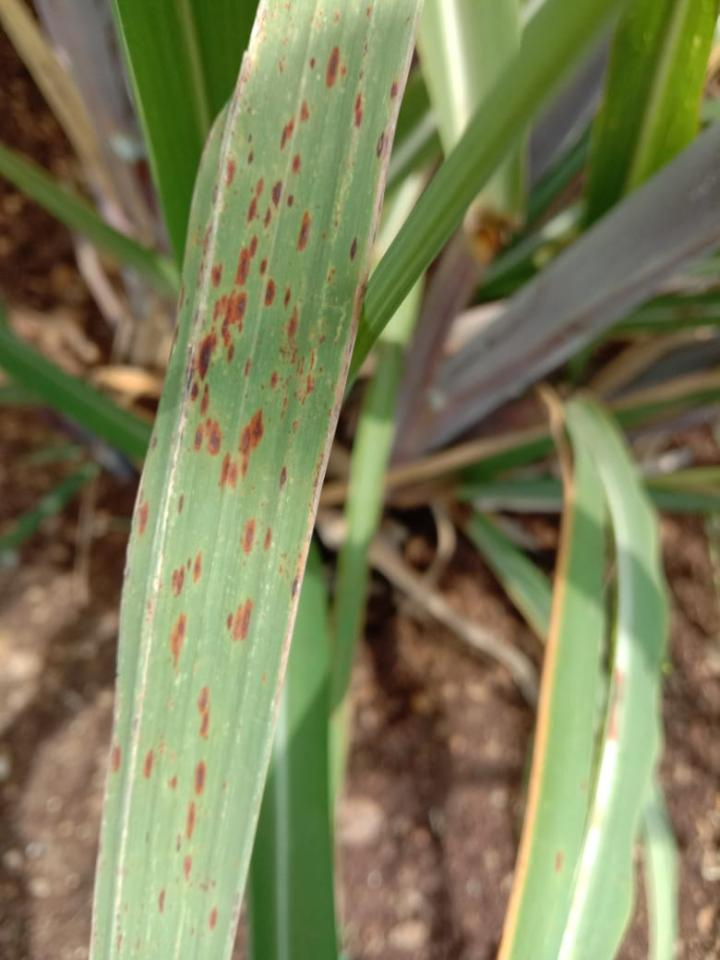RedRot: (608, 669, 625, 740), (186, 346, 194, 392), (377, 131, 385, 159), (213, 185, 218, 204)
Rust: (333, 272, 369, 405), (213, 288, 247, 362), (238, 408, 264, 480), (231, 56, 258, 115), (233, 236, 258, 286), (278, 306, 299, 364), (226, 597, 253, 642), (170, 613, 187, 678), (197, 325, 217, 380), (194, 417, 222, 456), (247, 177, 263, 222), (293, 374, 315, 405), (218, 451, 236, 488), (197, 687, 209, 739), (326, 46, 340, 89), (312, 453, 324, 502), (298, 210, 311, 252), (194, 760, 207, 798), (230, 892, 240, 941), (243, 518, 256, 555), (280, 117, 295, 149), (137, 502, 148, 542), (172, 563, 184, 597), (271, 180, 283, 210), (185, 801, 194, 840), (169, 325, 179, 360), (353, 92, 362, 128), (275, 375, 292, 394), (199, 384, 209, 416), (144, 749, 154, 779), (193, 551, 202, 584), (204, 223, 213, 255), (265, 279, 275, 307), (210, 264, 222, 287), (111, 745, 121, 772), (227, 160, 236, 189), (197, 879, 217, 892), (262, 206, 272, 229), (164, 774, 177, 791), (184, 856, 192, 881), (350, 235, 357, 263), (263, 527, 271, 551), (283, 286, 291, 310), (190, 382, 200, 401), (159, 888, 166, 915), (296, 355, 305, 376), (300, 101, 309, 122), (209, 907, 217, 930), (280, 465, 287, 491), (292, 154, 301, 174), (179, 281, 184, 312), (556, 852, 564, 871), (244, 357, 252, 376), (194, 225, 201, 246), (391, 77, 398, 98), (327, 266, 336, 282), (259, 258, 267, 276), (281, 398, 287, 420), (198, 264, 204, 286), (309, 350, 315, 370), (271, 371, 278, 388), (279, 55, 285, 74), (292, 577, 297, 599), (334, 9, 340, 26), (179, 493, 184, 513), (247, 150, 254, 164), (363, 37, 368, 56), (293, 420, 299, 435), (278, 552, 288, 561), (118, 934, 123, 951), (318, 335, 325, 346), (287, 195, 293, 207), (148, 598, 152, 615), (310, 58, 316, 69), (187, 557, 192, 570), (340, 66, 347, 75), (177, 833, 180, 853), (160, 742, 165, 753), (367, 5, 371, 18), (279, 563, 283, 575), (311, 14, 315, 26), (136, 938, 140, 949), (262, 672, 266, 683), (124, 902, 128, 912), (248, 133, 252, 143), (359, 71, 364, 79), (318, 9, 323, 17), (222, 782, 227, 789), (322, 232, 326, 240), (327, 409, 331, 417), (319, 366, 323, 373), (260, 384, 264, 391), (260, 501, 265, 506), (334, 221, 338, 227), (191, 928, 194, 935), (116, 926, 121, 930), (117, 913, 120, 919), (257, 214, 260, 220), (251, 487, 256, 490), (250, 187, 253, 192)
Yellow: (496, 455, 572, 959)
